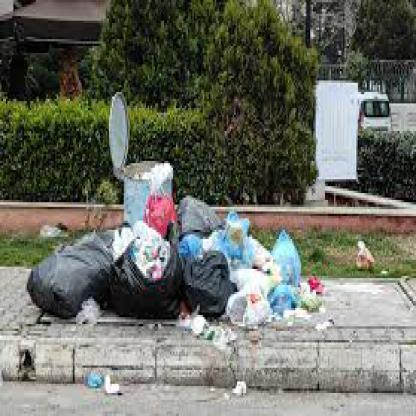Garbage: (180, 200, 334, 335), (116, 234, 200, 345), (26, 246, 118, 315), (191, 236, 246, 328), (296, 268, 332, 326), (81, 363, 126, 400), (141, 195, 174, 232), (71, 298, 100, 334), (143, 158, 173, 188), (102, 372, 124, 404), (177, 306, 200, 336), (230, 377, 254, 398)
